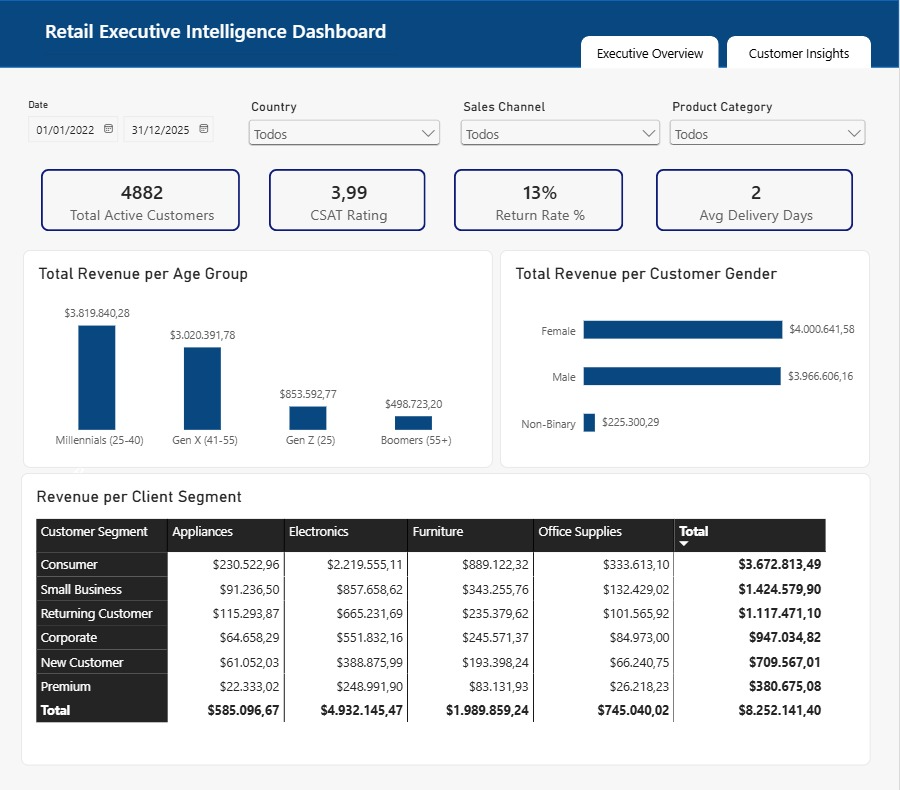

The page's visual inventory and layout, read from the dashboard file:
{"tool":"powerbi","page":{"name":"Customer Insights","canvas":[1000,900],"ordinal":1},"visuals":[{"type":"cardVisual","fields":{"Data":["_Measures.Total Active Customers"]},"box":[46.5,188,221.6,69],"z":0,"group":"g1"},{"type":"actionButton","box":[6.2,510,92.3,30.8],"z":0},{"type":"shape","box":[0,0,1000,75],"z":1000},{"type":"cardVisual","fields":{"Data":["_Measures.CSAT Rating"]},"box":[299.1,188,174.5,69],"z":1000,"group":"g1"},{"type":"textbox","box":[51,19,390,41],"z":2000},{"type":"cardVisual","fields":{"Data":["_Measures.Return Rate %"]},"box":[505.6,188,188.4,69],"z":2000,"group":"g1"},{"type":"group","id":"g1","title":"Grupo 1","box":[24,110,944,740],"z":3000},{"type":"cardVisual","fields":{"Data":["_Measures.Avg Delivery Days"]},"box":[729.3,188,219.4,69],"z":3000,"group":"g1"},{"type":"actionButton","box":[647,40,153,36],"z":4000},{"type":"pivotTable","title":"Revenue per Client Segment","fields":{"Columns":["retail_sales.Product_Category"],"Rows":["retail_sales.Customer_Segment"],"Values":["_Measures.Total Revenue"]},"box":[24,525,944,325],"z":4000,"group":"g1"},{"type":"actionButton","box":[809,40,160,36],"z":5000},{"type":"columnChart","title":"Total Revenue per Age Group","fields":{"Category":["retail_sales.Age Group"],"Y":["_Measures.Total Revenue"]},"box":[25.8,278.2,521.8,241.8],"z":5000,"group":"g1"},{"type":"barChart","title":"Total Revenue per Customer Gender","fields":{"Category":["retail_sales.Customer_Gender"],"Y":["_Measures.Total Revenue"]},"box":[556.7,278.2,410.9,241.8],"z":6000,"group":"g1"},{"type":"slicer","fields":{"Values":["d_Calendar.Date"]},"box":[24,110,240.8,57],"z":8000,"group":"g1"},{"type":"slicer","fields":{"Values":["retail_sales.Country"]},"box":[272.3,110,222.6,52],"z":9000,"group":"g1"},{"type":"slicer","fields":{"Values":["retail_sales.Sales_Channel"]},"box":[507.8,110,232.3,52],"z":10000,"group":"g1"},{"type":"slicer","fields":{"Values":["retail_sales.Product_Category"]},"box":[740,110,228,51],"z":11000,"group":"g1"}]}

Visuals, with their boxes in screenshot pixels (x1, y1, x2, y2), scaled from the page's 1000x900 canvas onto the 900x790 screenshot:
cardVisual - _Measures.Total Active Customers: [left=42, top=165, right=241, bottom=226]
actionButton: [left=6, top=448, right=89, bottom=475]
shape: [left=0, top=0, right=899, bottom=66]
cardVisual - _Measures.CSAT Rating: [left=269, top=165, right=426, bottom=226]
textbox: [left=46, top=17, right=397, bottom=53]
cardVisual - _Measures.Return Rate %: [left=455, top=165, right=625, bottom=226]
"Grupo 1" group: [left=22, top=97, right=871, bottom=746]
cardVisual - _Measures.Avg Delivery Days: [left=656, top=165, right=854, bottom=226]
actionButton: [left=582, top=35, right=720, bottom=67]
"Revenue per Client Segment" pivotTable: [left=22, top=461, right=871, bottom=746]
actionButton: [left=728, top=35, right=872, bottom=67]
"Total Revenue per Age Group" columnChart: [left=23, top=244, right=493, bottom=456]
"Total Revenue per Customer Gender" barChart: [left=501, top=244, right=871, bottom=456]
slicer - d_Calendar.Date: [left=22, top=97, right=238, bottom=147]
slicer - retail_sales.Country: [left=245, top=97, right=445, bottom=142]
slicer - retail_sales.Sales_Channel: [left=457, top=97, right=666, bottom=142]
slicer - retail_sales.Product_Category: [left=666, top=97, right=871, bottom=141]
